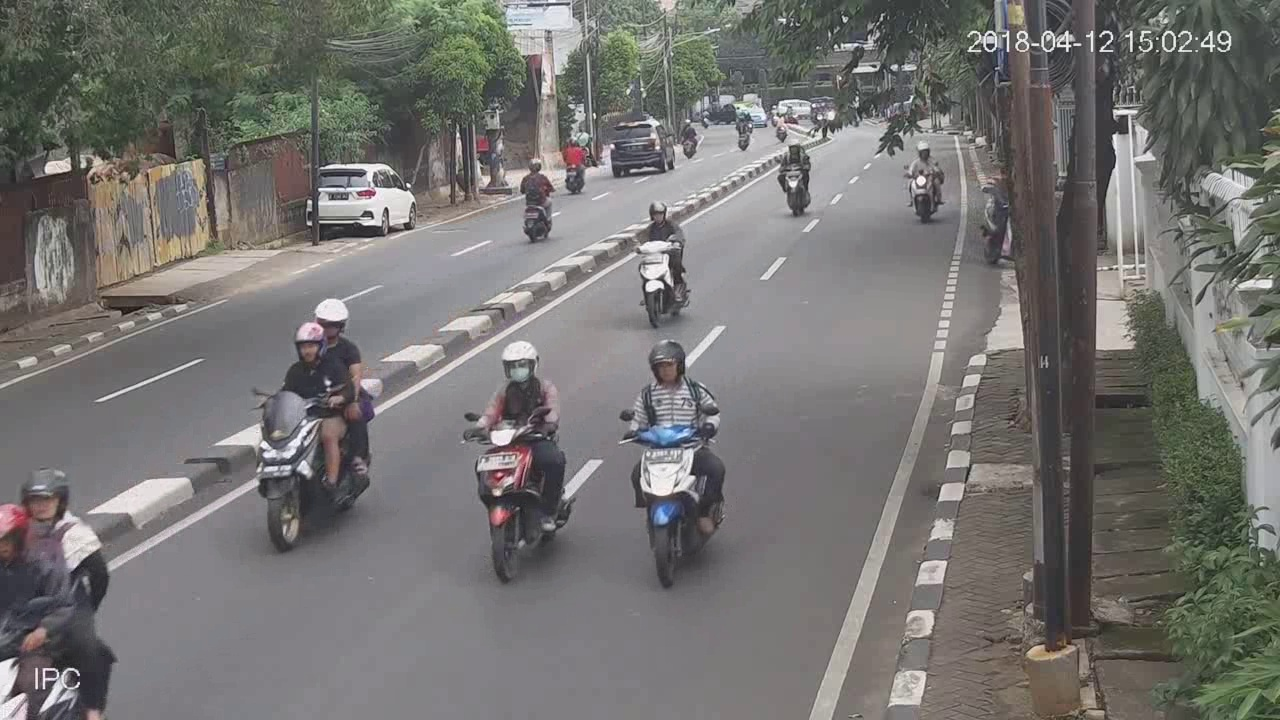car: (308, 158, 422, 241), (611, 118, 676, 178)
motorcycle: (241, 296, 378, 555), (1, 468, 122, 720), (619, 334, 734, 595), (461, 341, 576, 585), (630, 196, 691, 331), (900, 131, 949, 230), (773, 135, 816, 223), (519, 151, 557, 245), (560, 134, 592, 199)
